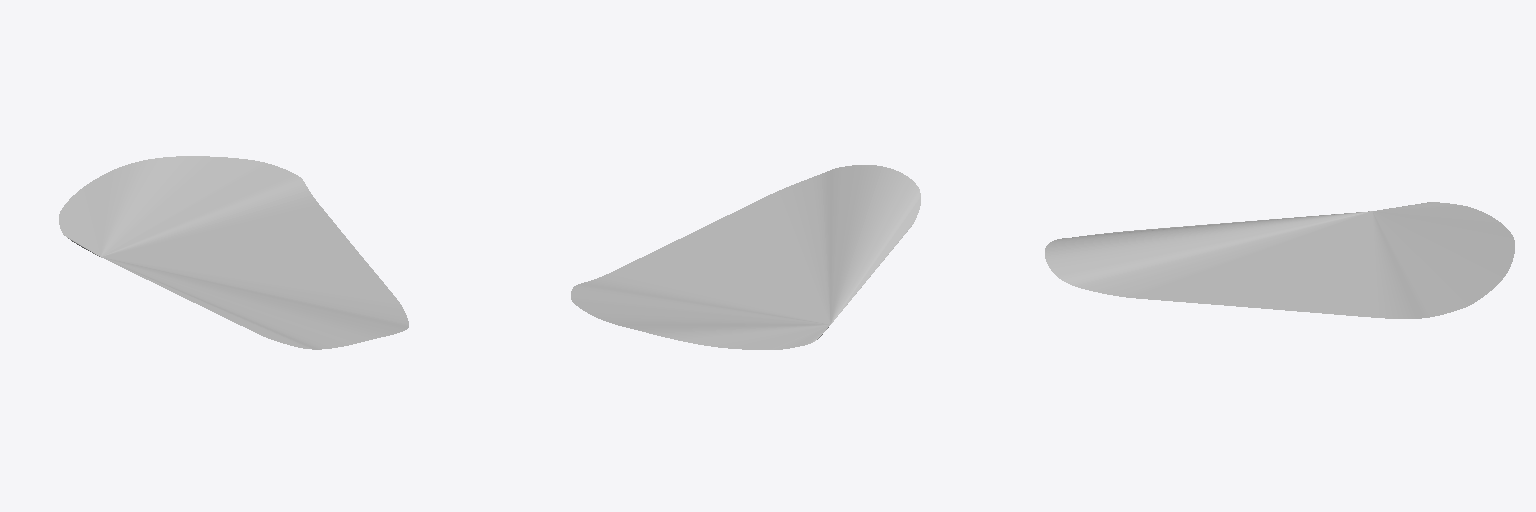
Rendered from AI_waypoints_7.obj.
3 renders of one model, left to right at view 1: azimuth 30°, elevation 25°; view 2: azimuth 150°, elevation 25°; view 3: azimuth 270°, elevation 25°, orthographic.
Visible parts, largest first — view 1: Waypoints7_Waypoints1.002; view 2: Waypoints7_Waypoints1.002; view 3: Waypoints7_Waypoints1.002.
Part boxes in pixels (x1,y1,x2,y2): Waypoints7_Waypoints1.002: (59,156,408,349); Waypoints7_Waypoints1.002: (571,165,920,349); Waypoints7_Waypoints1.002: (1045,202,1514,318).
Bounding box in the file's own units: 190 × 12.87 × 328.